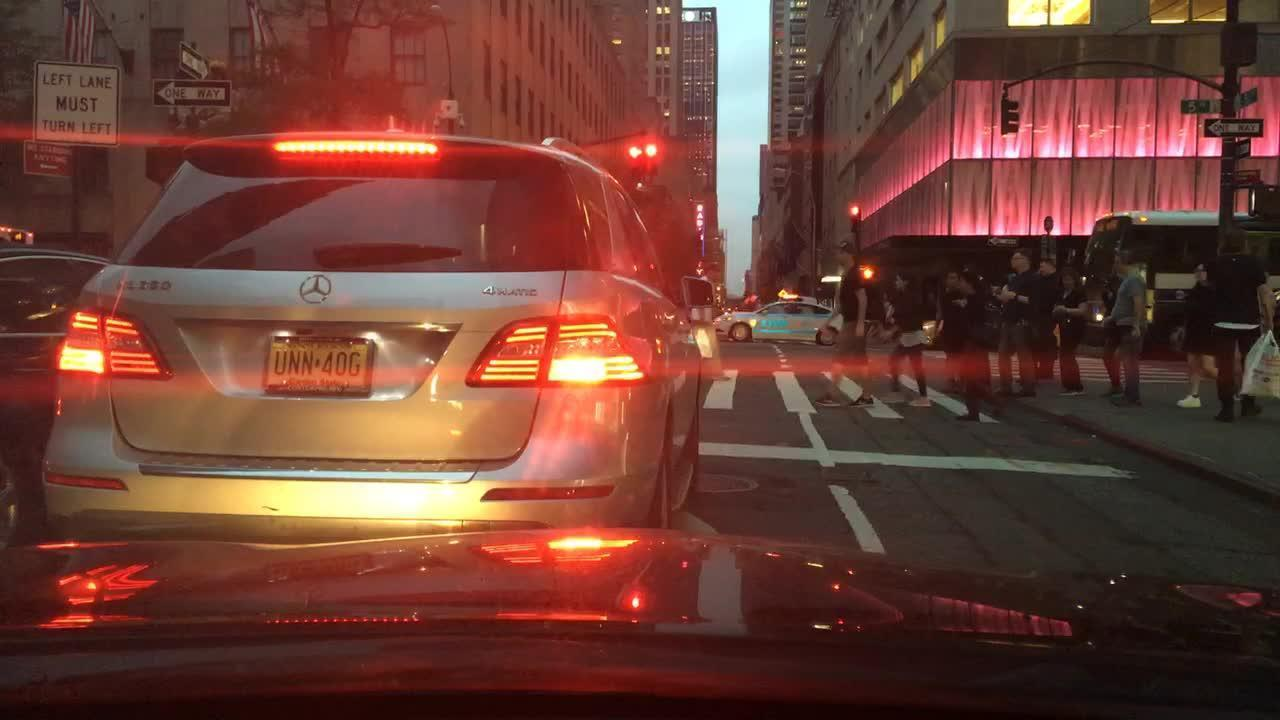Mercedes: (290, 268, 341, 322)
